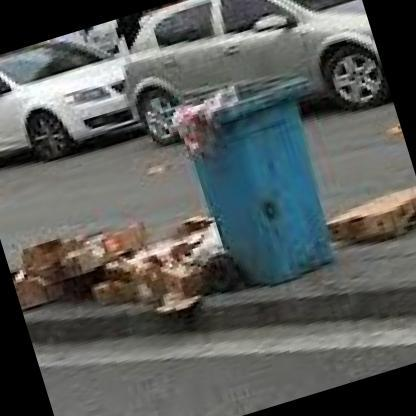Garbage: (10, 221, 150, 316), (106, 216, 222, 322), (323, 185, 415, 250), (168, 88, 244, 152)
